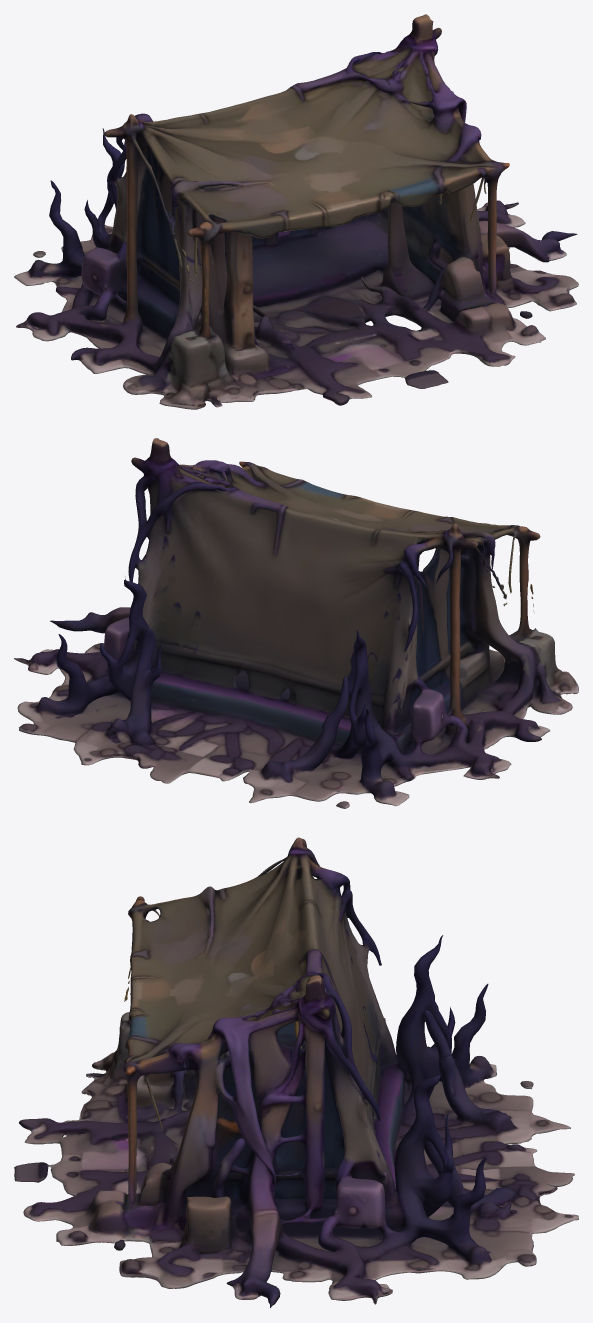
Rendered from SM_Environment_FantasyRuinsTent_01.fbx.
The picture shows the model from 3 angles, top to bottom: view 1: azimuth 30°, elevation 25°; view 2: azimuth 150°, elevation 25°; view 3: azimuth 270°, elevation 25°; orthographic projection. The views are drawn at different scales.
Visible parts, largest first — view 1: SM_Environment_FantasyRuinsTent_01; view 2: SM_Environment_FantasyRuinsTent_01; view 3: SM_Environment_FantasyRuinsTent_01.
Part boxes in pixels (x1,y1,x2,y2): SM_Environment_FantasyRuinsTent_01: (14, 14, 578, 409); SM_Environment_FantasyRuinsTent_01: (14, 438, 578, 808); SM_Environment_FantasyRuinsTent_01: (14, 837, 578, 1307).
Bounding box in the file's own units: 0.9829 × 0.4402 × 0.8495.
1 material, 1 textured.
